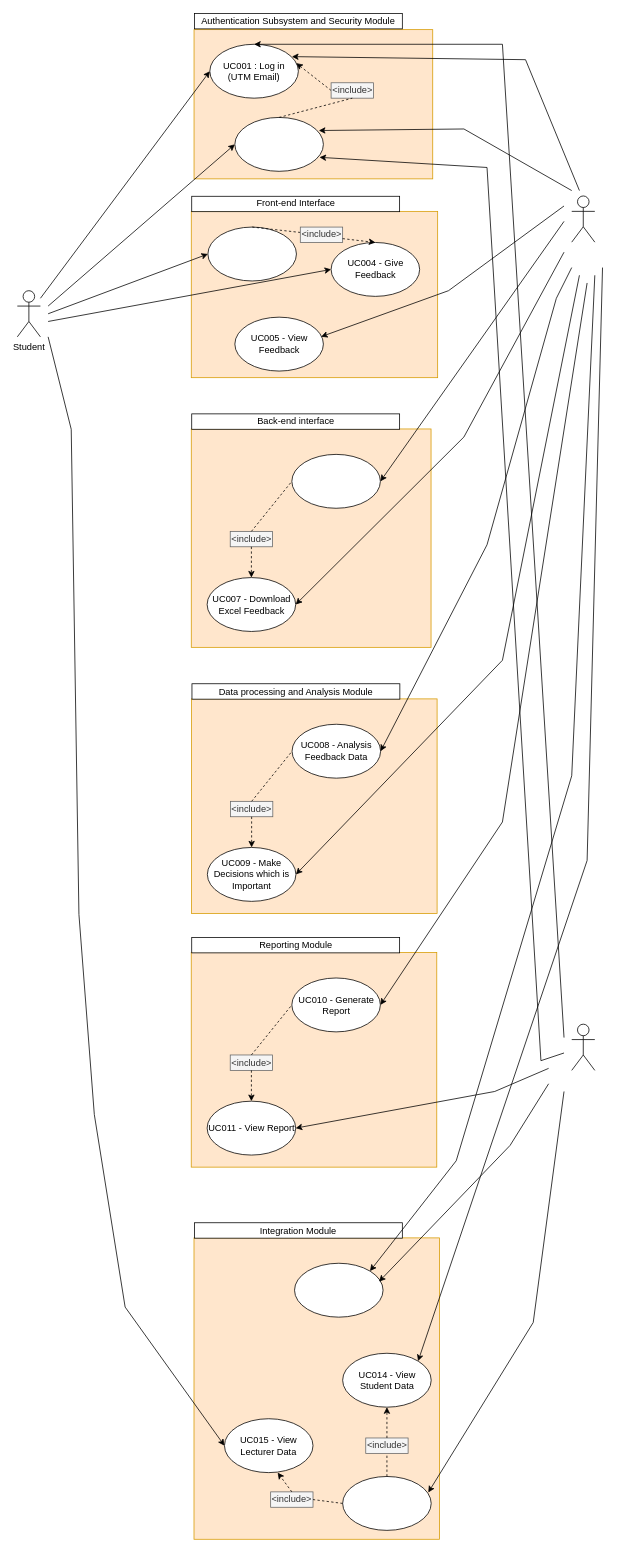
The diagram is 624 pixels wide and 1553 high, and some of its shapes have lost their labels. Each missing label, with the centre of its shape:
Administrator: point 583,1046
Lecturer: point 583,218
UC002 : Reset password: point 278,144
UC003 - Choosing Lecturers/Course: point 251,253
UC006 - Manage Feedback: point 335,481
UC012 - Notification Pop-up: point 338,1289
UC013 - Manage User: point 386,1503
